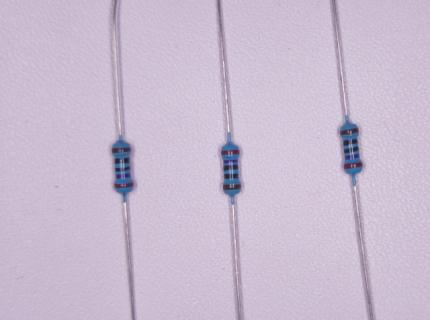Black band: (344, 146, 359, 154), (343, 139, 359, 146), (115, 166, 131, 172), (115, 158, 130, 164), (224, 165, 238, 171), (224, 174, 239, 179)
Brown band: (340, 128, 359, 136), (112, 147, 131, 153), (223, 185, 242, 191)
Red band: (344, 162, 363, 170), (114, 182, 134, 188), (220, 150, 239, 155)
Violet band: (345, 154, 359, 160), (115, 173, 130, 178), (223, 159, 238, 164)
